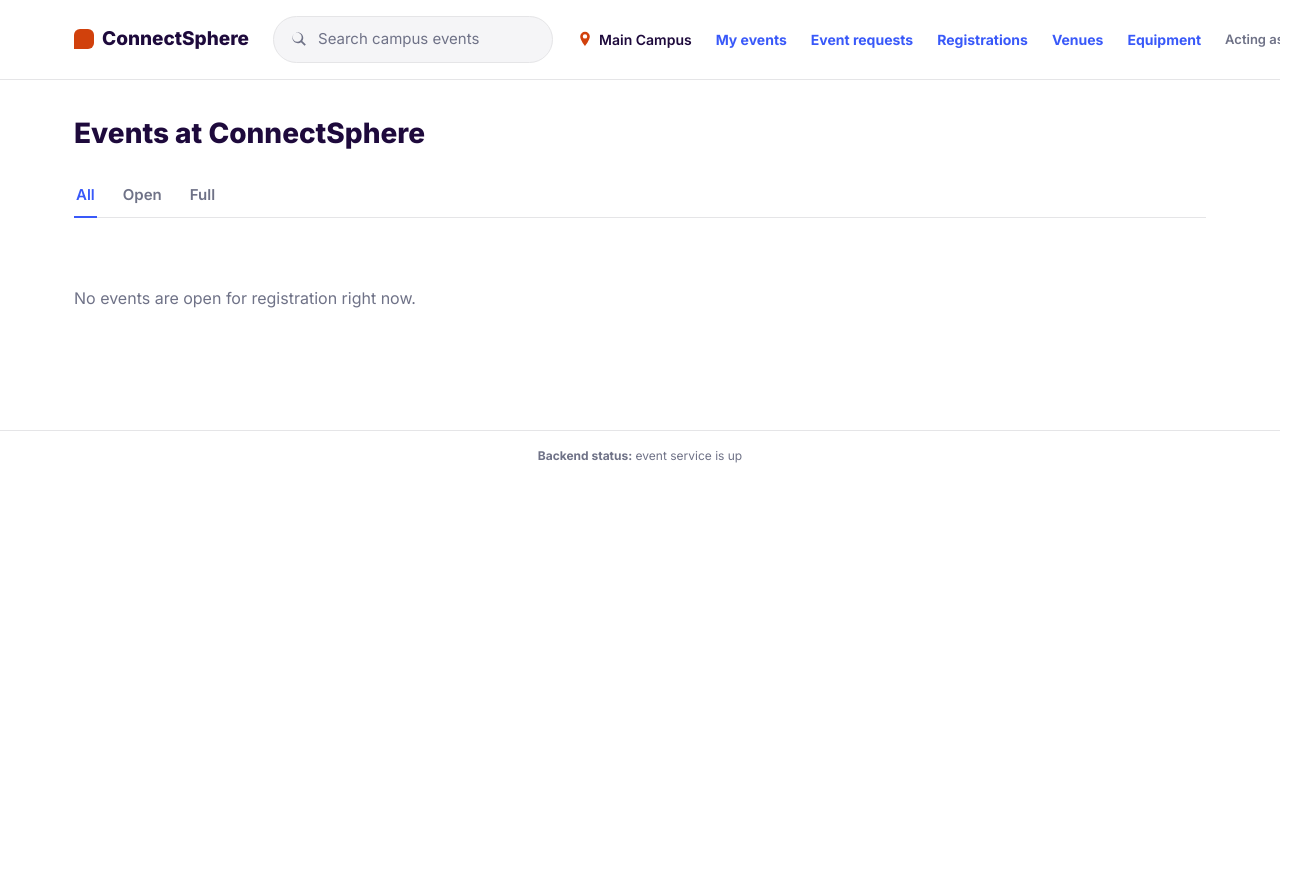
Test: coordinator decides a request (US17) › asks for a reason before rejecting, then shows it (AC 3, 5)
Click the button "Event requests": (862, 39) [811, 29, 913, 50]
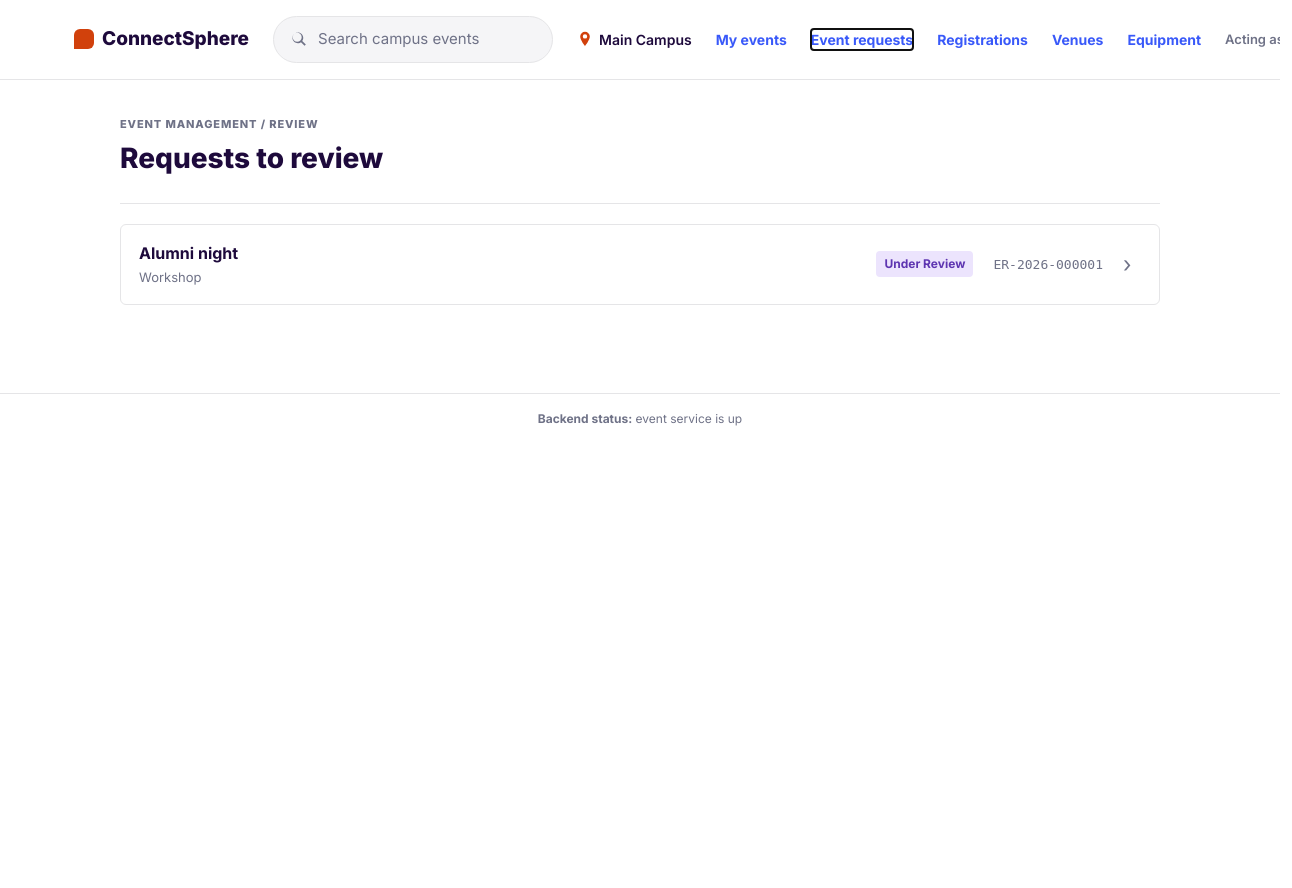
Click the button "Alumni night Workshop under review ER-2026-000001 ›": (189, 253) [120, 224, 1160, 304]
(page scrolled)
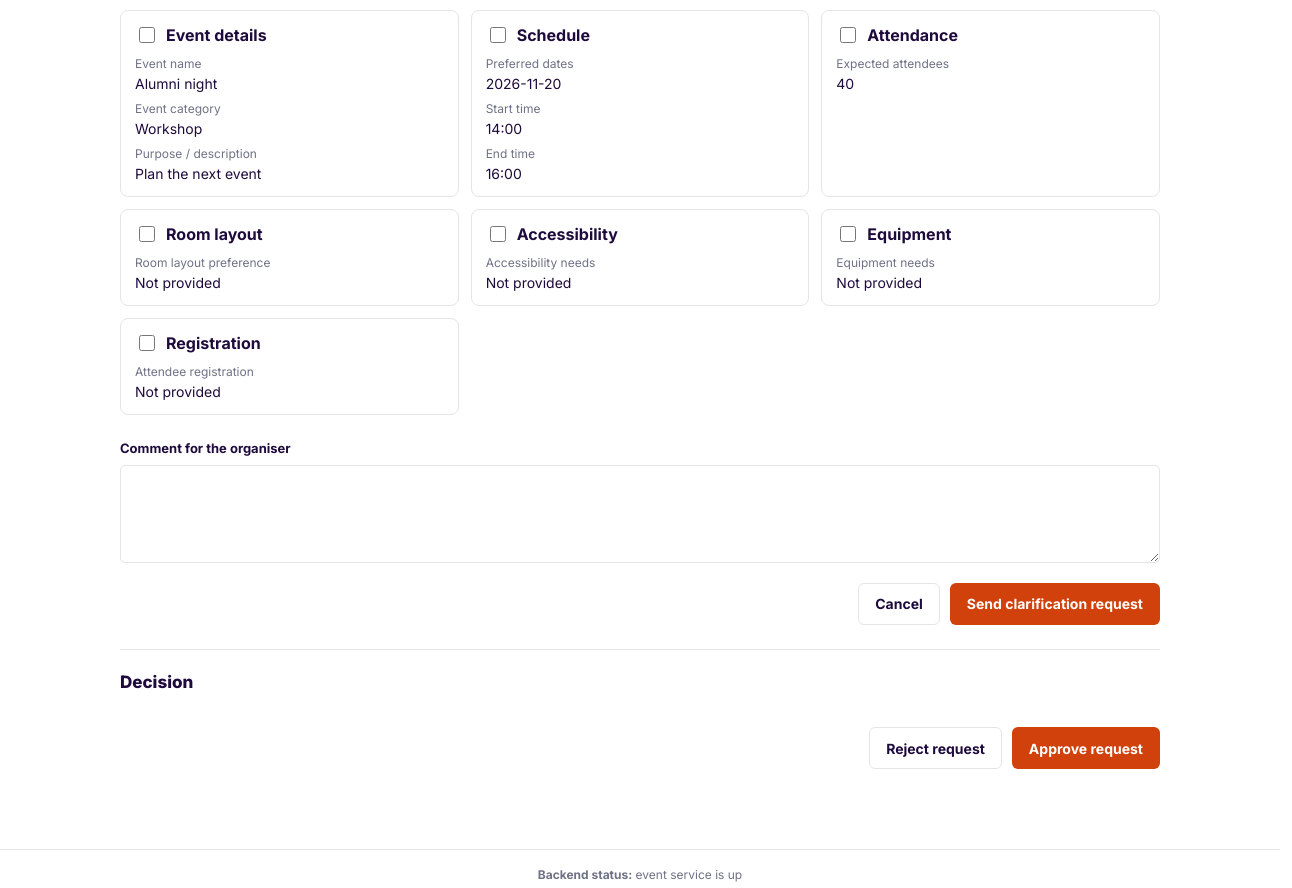
Click the button "Reject request": (935, 748) [869, 727, 1002, 769]
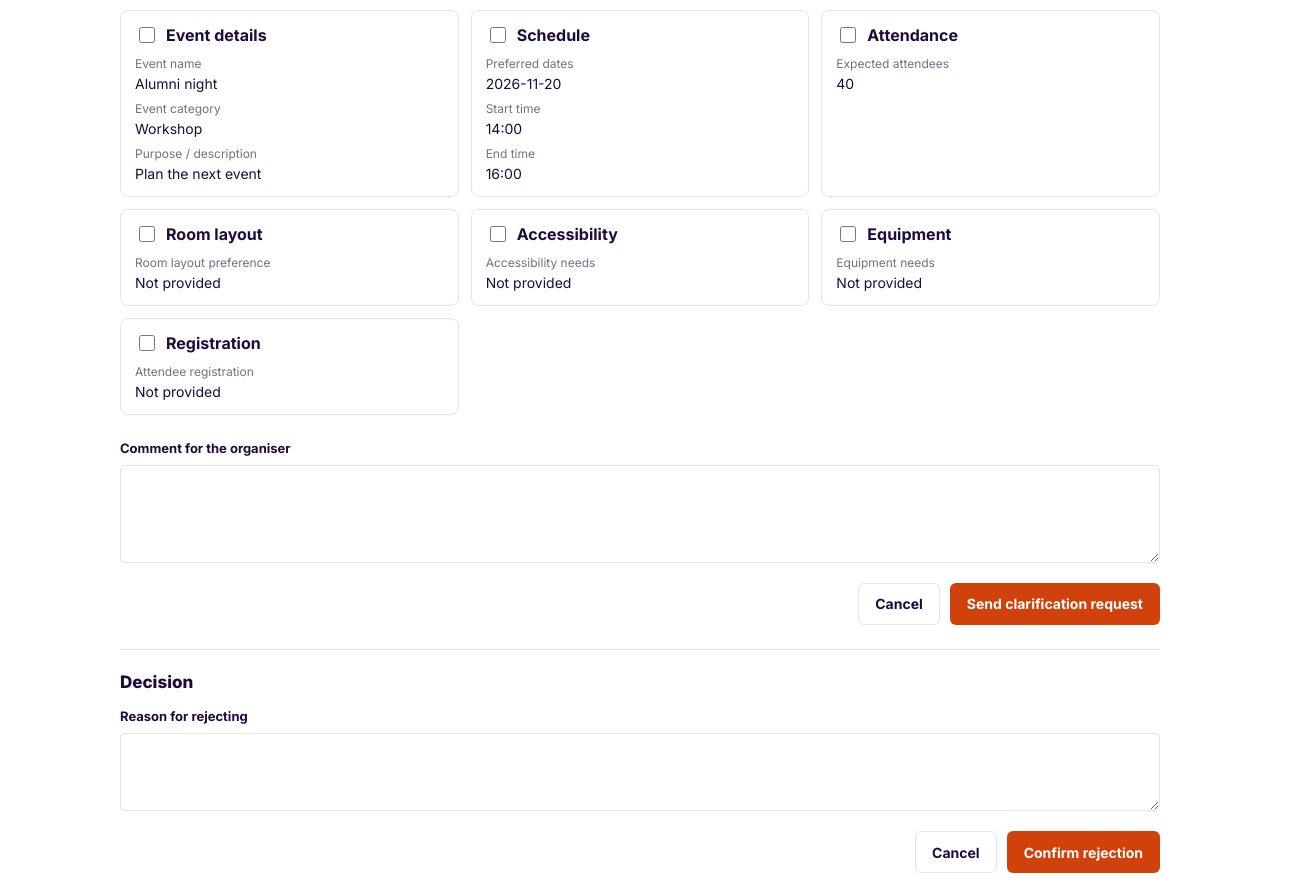
Click the button "Confirm rejection": (1083, 852) [1007, 831, 1160, 873]
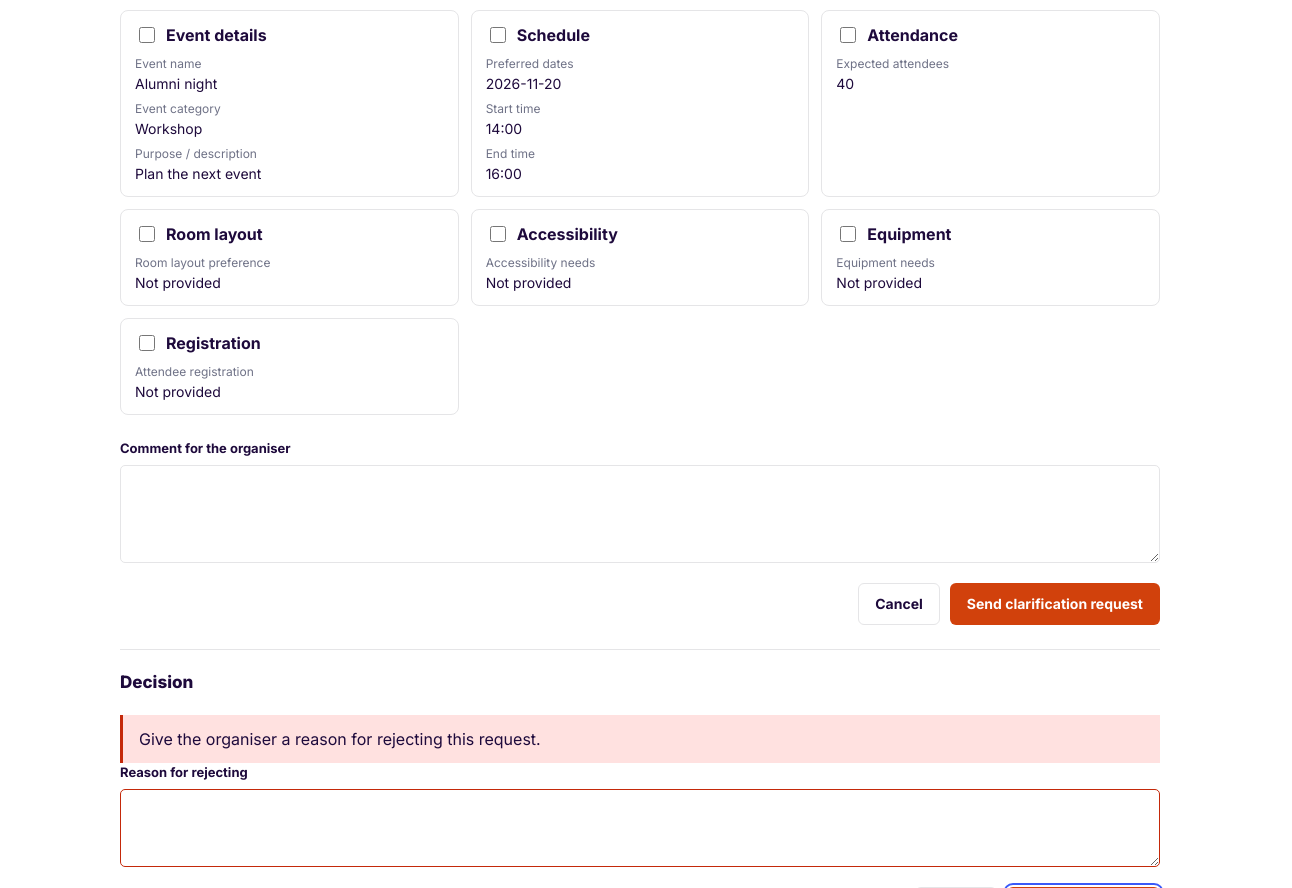
Now the message shows "Give the organiser a reason", box [139, 729, 541, 749]
In the text box labelled "Reason for rejecting": (640, 828) [120, 788, 1160, 867], type "The date clashes with exams."
(page scrolled)
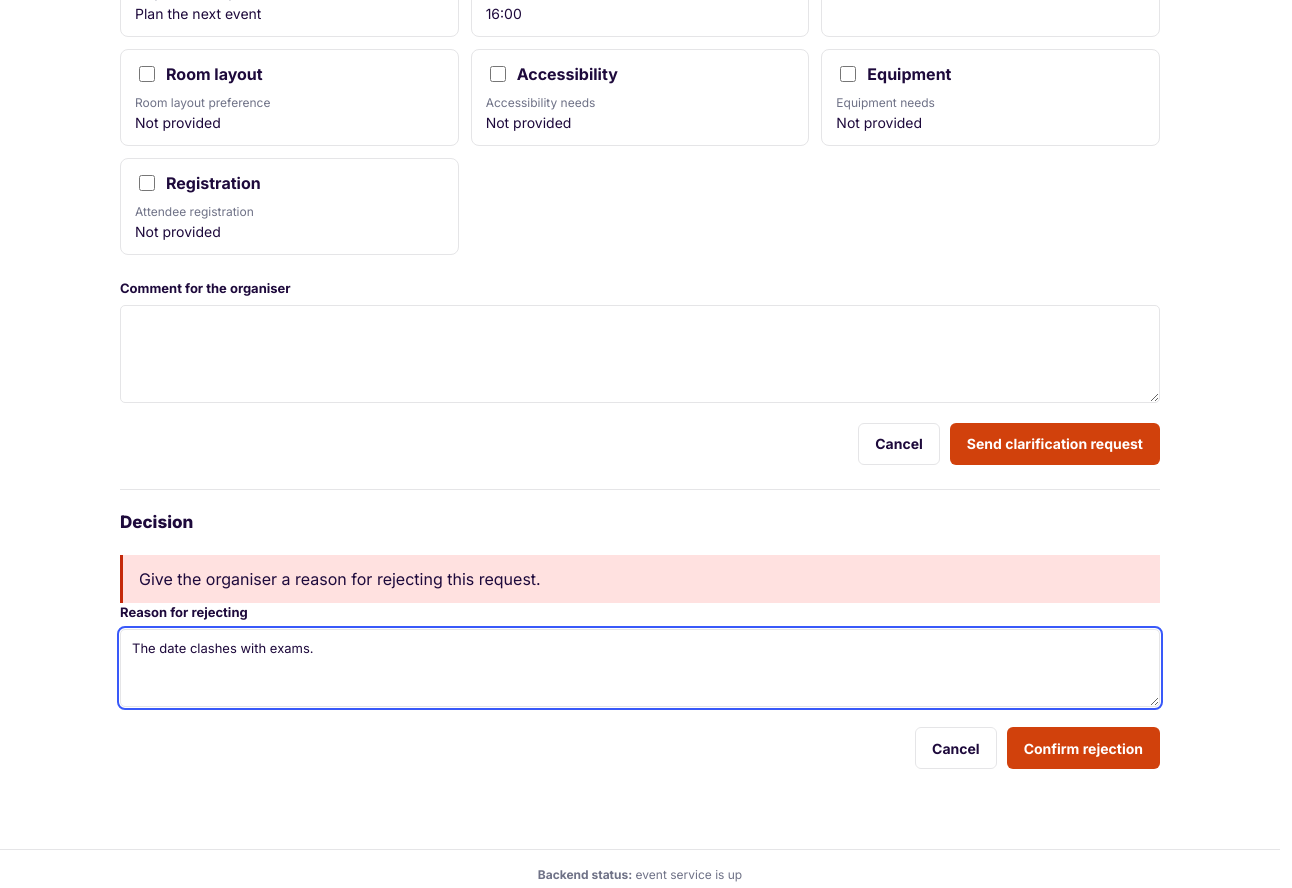
Click the button "Confirm rejection": (1083, 748) [1007, 727, 1160, 769]
(page scrolled)
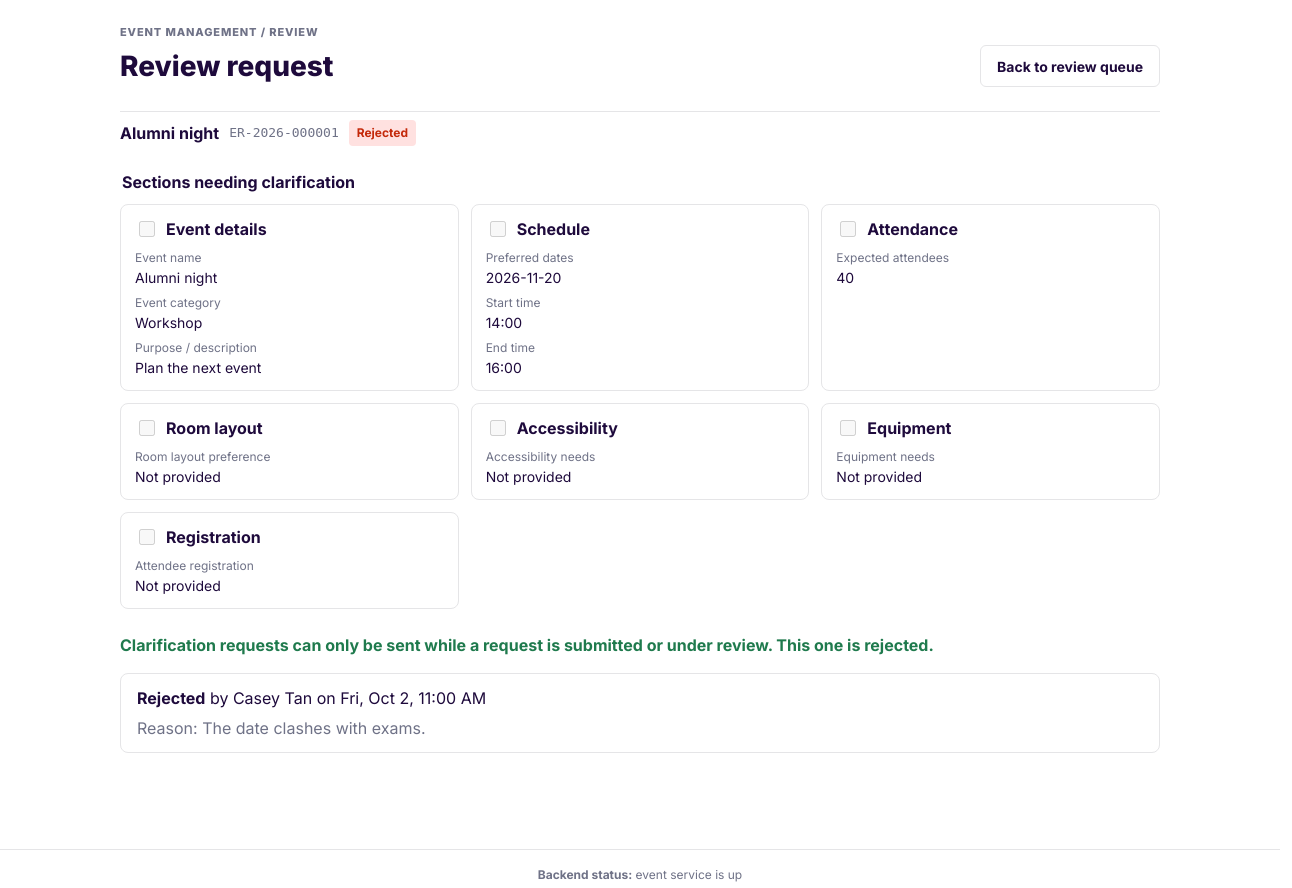
Now the message named "Decision" shows "Rejected by Casey Tan on", box [120, 673, 1160, 753]
Now the message named "Decision" shows "Reason: The date clashes with exams.", box [120, 673, 1160, 753]
